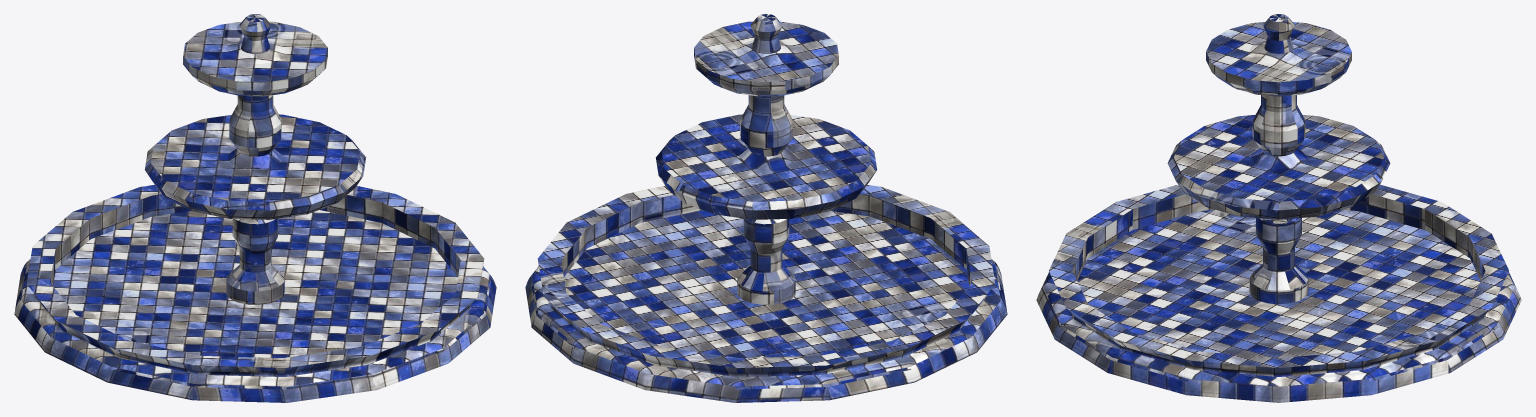
File: Fuente.FBX
3 views of the same model, side by side, from view 1: azimuth 30°, elevation 25°; view 2: azimuth 150°, elevation 25°; view 3: azimuth 270°, elevation 25° (orthographic).
Parts seen in each view (by area): view 1: Line001; view 2: Line001; view 3: Line001.
Part boxes in pixels (x1,y1,x2,y2): Line001: [14, 14, 496, 402]; Line001: [525, 14, 1007, 402]; Line001: [1036, 14, 1521, 402].
Bounding box in the file's own units: 259 × 167 × 259.
1 material, 1 textured.
